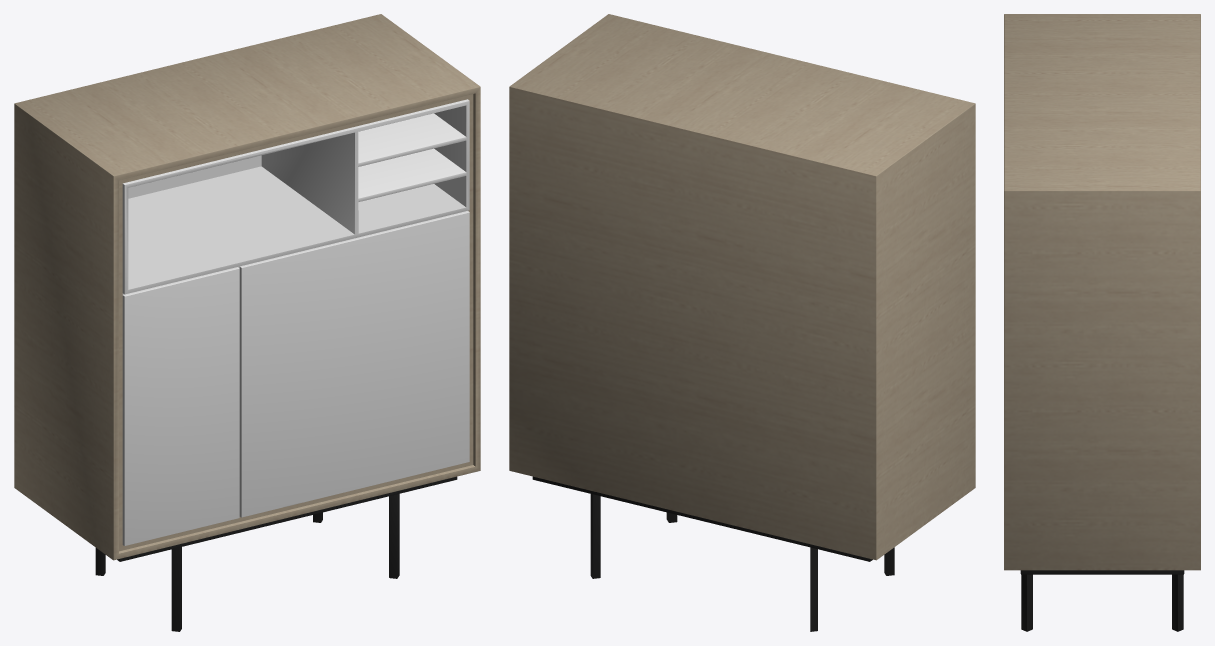
File: square_consoletable.gltf
3 views of the same model, side by side, from view 1: azimuth 30°, elevation 25°; view 2: azimuth 150°, elevation 25°; view 3: azimuth 270°, elevation 25° (orthographic).
Visible parts, largest first — view 1: Mesh; view 2: Mesh; view 3: Mesh.
Part boxes in pixels (x1,y1,x2,y2): Mesh: [14, 14, 480, 631]; Mesh: [509, 14, 975, 631]; Mesh: [1004, 14, 1200, 631].
Bounding box in the file's own units: 1 × 1.25 × 0.47.
Materials: 1 (1 with a texture image).
